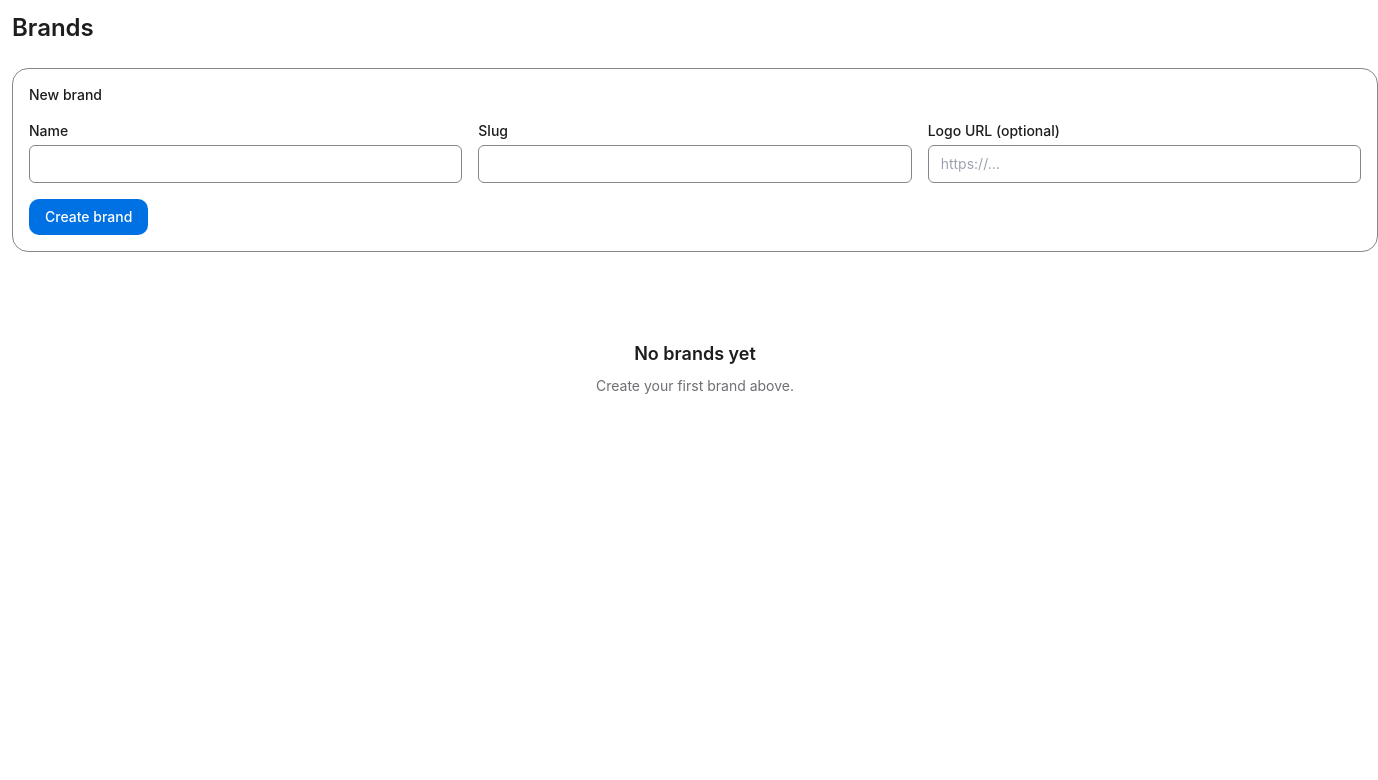
Test: AdminBrandsPage › creates a brand and shows it in the list
This screenshot has width=1378, height=780.
Expected: the heading "No brands yet" is shown, [634, 340, 756, 368]
Type "Nova" into the field labelled "Name".
click(246, 164); type("Nova")  # box [29, 145, 462, 183]
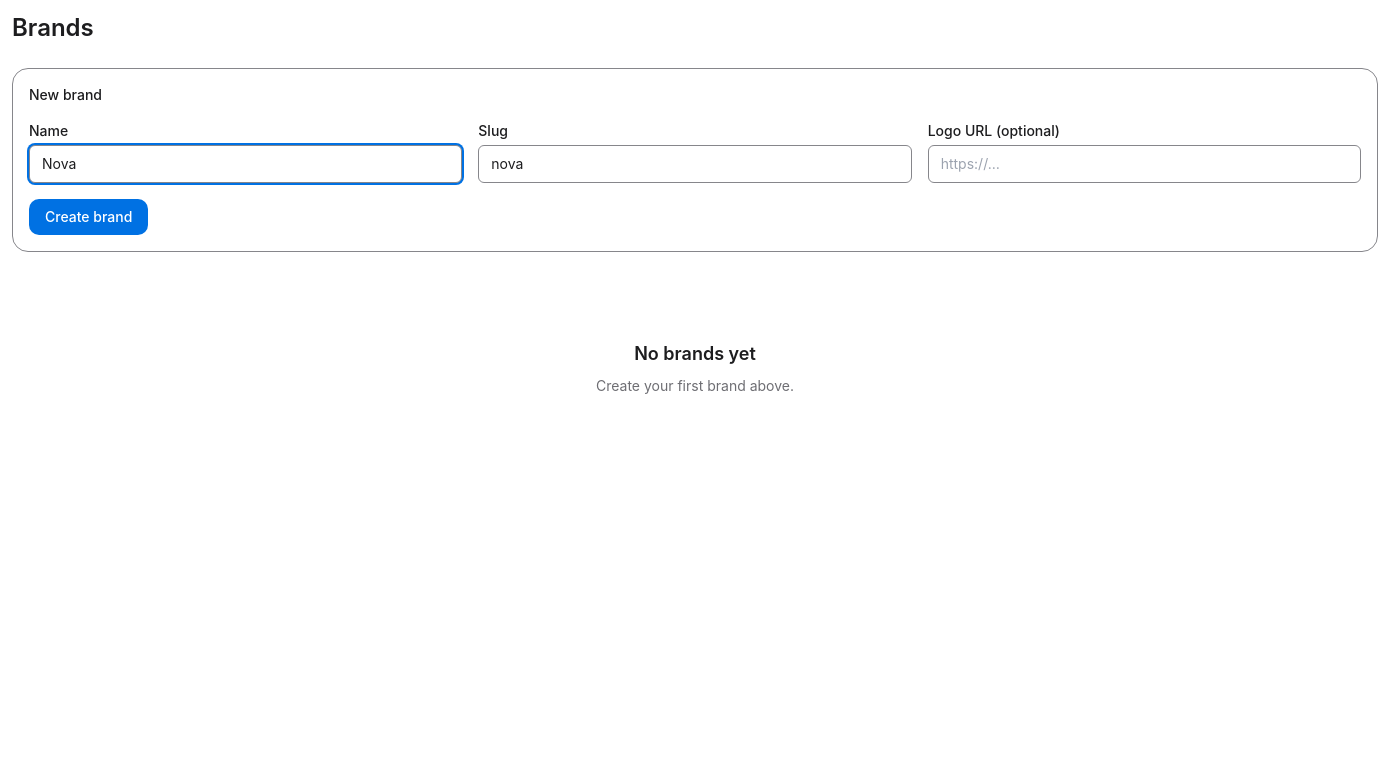
Click the button "Create brand".
click(89, 217)  # box [29, 199, 148, 235]
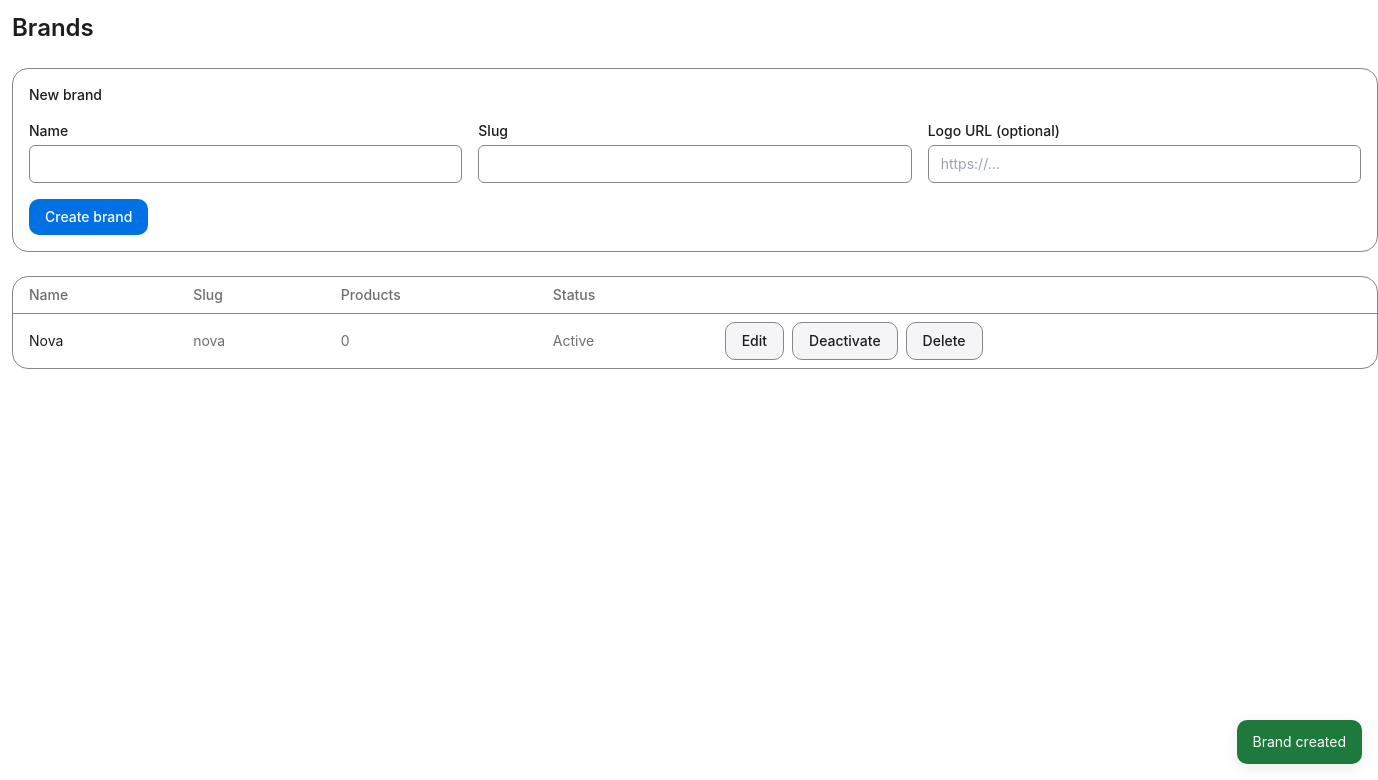
Expected: the text "Brand created" is shown, [1236, 720, 1362, 764]
Expected: the text "Nova" is shown, [13, 314, 177, 368]
